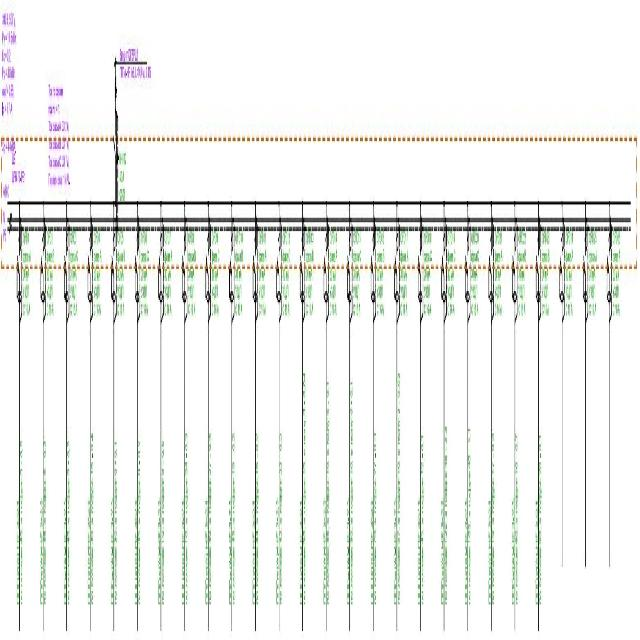-: (517, 246, 527, 318), (92, 246, 102, 318), (353, 246, 363, 318), (446, 246, 456, 318), (494, 244, 504, 316), (140, 248, 150, 319), (116, 250, 126, 321), (211, 249, 221, 320), (564, 248, 574, 319), (399, 249, 409, 320), (423, 250, 433, 321), (540, 248, 550, 319), (46, 248, 56, 319), (306, 250, 316, 321), (70, 248, 80, 319), (329, 249, 339, 320), (235, 248, 245, 319), (22, 248, 32, 319), (258, 250, 268, 321), (164, 248, 174, 319), (376, 248, 386, 319), (188, 246, 198, 316), (282, 246, 292, 316), (470, 246, 480, 316), (588, 246, 598, 316), (612, 246, 622, 316), (10, 168, 27, 188), (118, 150, 126, 183)
QFD: (511, 228, 517, 304), (558, 228, 564, 304), (581, 228, 587, 304), (605, 231, 611, 307), (16, 231, 22, 307), (40, 228, 46, 304), (63, 230, 69, 306), (86, 231, 92, 307), (110, 231, 116, 307), (134, 230, 140, 306), (157, 231, 163, 307), (181, 228, 187, 304), (204, 231, 210, 307), (228, 228, 234, 304), (252, 230, 258, 306), (276, 231, 282, 307), (298, 231, 304, 307), (322, 228, 328, 304), (346, 231, 352, 307), (370, 228, 376, 304), (393, 228, 399, 304), (416, 230, 422, 306), (464, 231, 470, 307), (487, 228, 493, 304), (534, 231, 540, 307), (441, 228, 446, 304)
QS: (112, 128, 116, 164)
